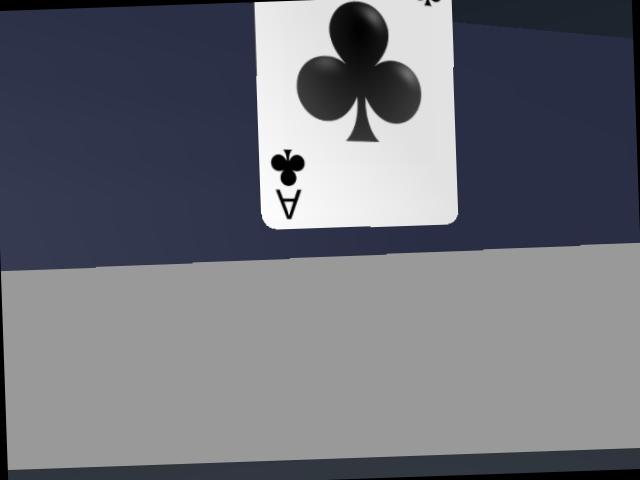spade: (255, 0, 457, 229)
